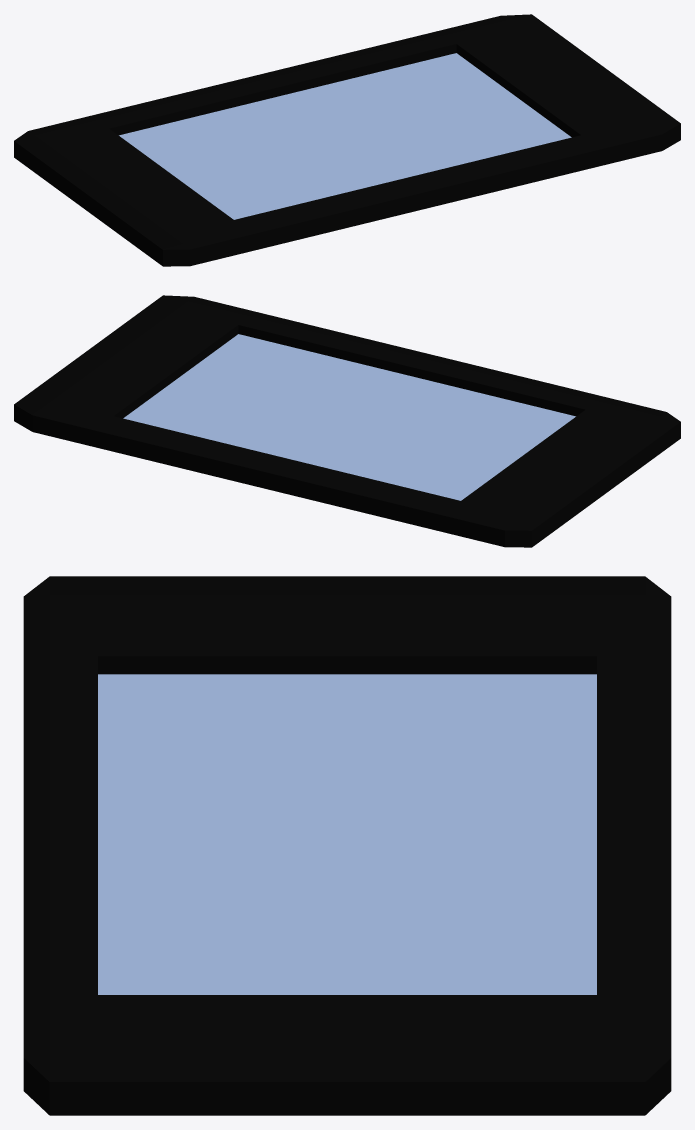
The model's file is targeta_cocu.fbx.
The picture shows the model from 3 angles, top to bottom: view 1: azimuth 30°, elevation 25°; view 2: azimuth 150°, elevation 25°; view 3: azimuth 270°, elevation 25°; orthographic projection. The views are drawn at different scales.
Parts seen in each view (by area): view 1: Cube, Cube.001; view 2: Cube, Cube.001; view 3: Cube, Cube.001.
Boxes of the visible parts, box(x1,y1,x2,y2) form: Cube: box(14, 14, 680, 266); Cube.001: box(119, 53, 571, 219); Cube: box(14, 295, 680, 547); Cube.001: box(123, 334, 575, 500); Cube: box(23, 576, 671, 1115); Cube.001: box(98, 674, 596, 994).
Bounding box in the file's own units: 369 × 12.38 × 200.
